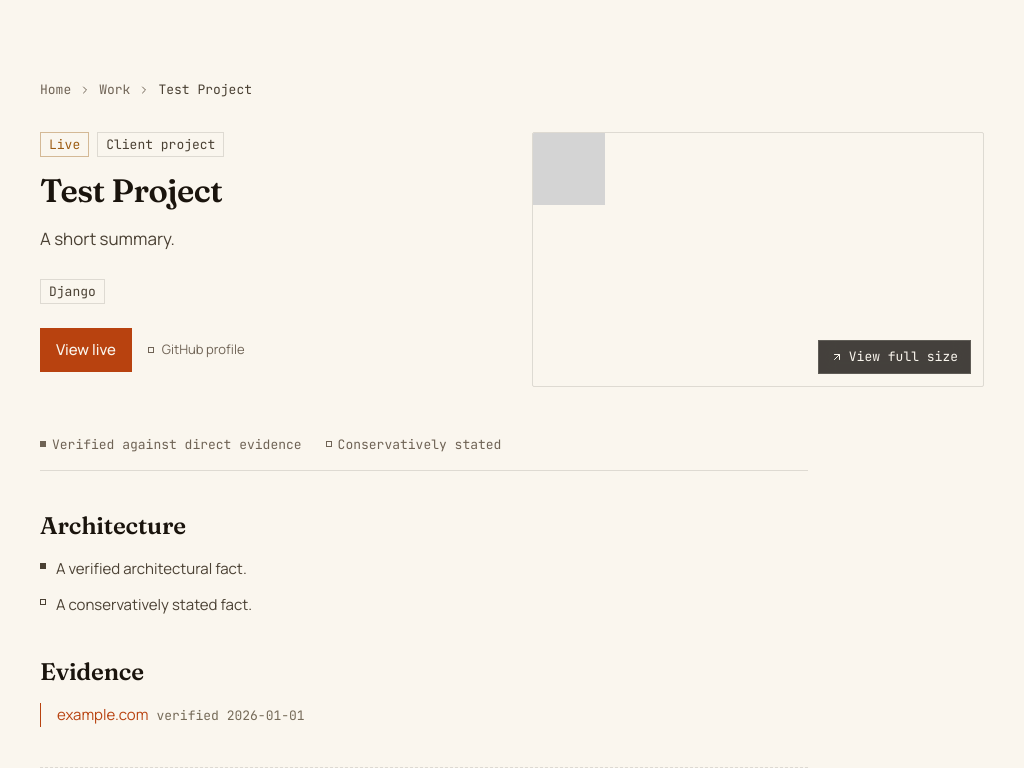
Scenario: ProjectDetailView › keyboard-accessible gallery › closes via the explicit close button too
The width and height of the screenshot is (1024, 768).
Click the button "View full size".
click(894, 357)  # box top-left (818, 340), bottom-right (971, 374)
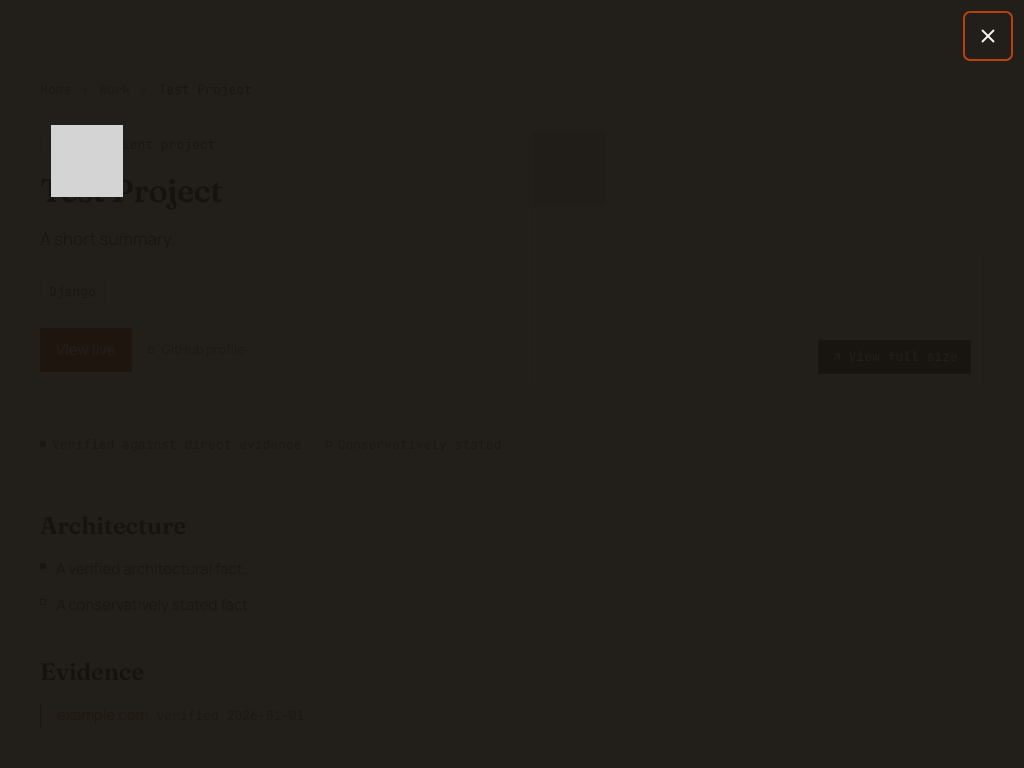
Click the button named "close full-size view".
click(988, 36)  # box top-left (968, 16), bottom-right (1008, 56)
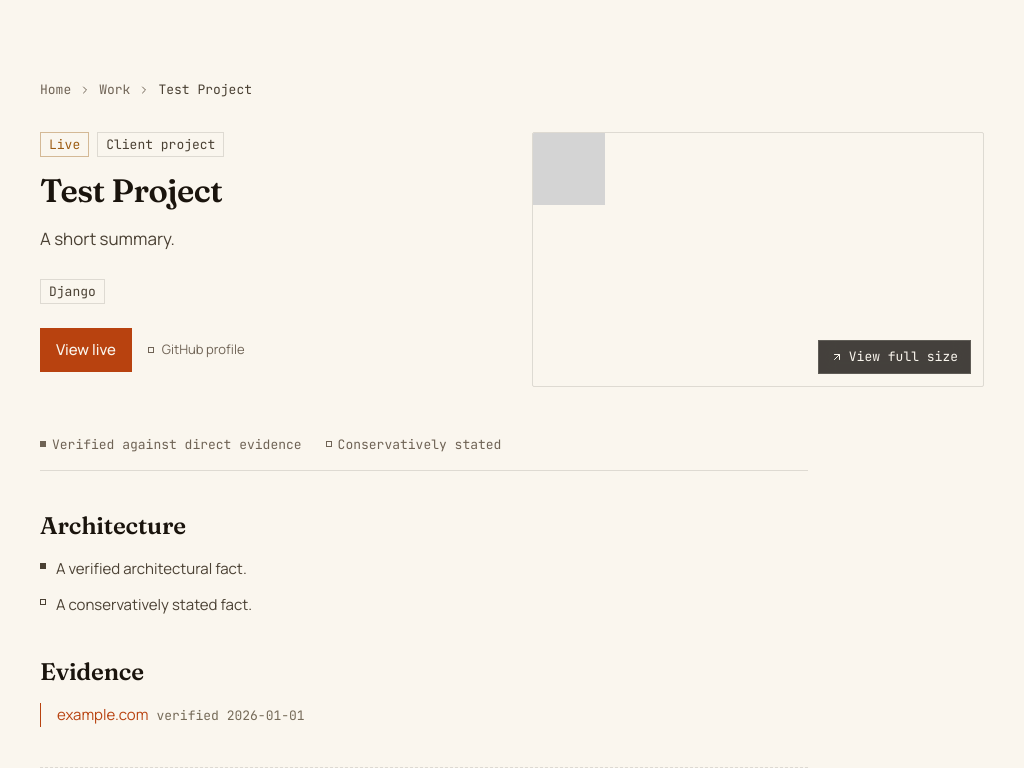
Check: the dialog is gone
